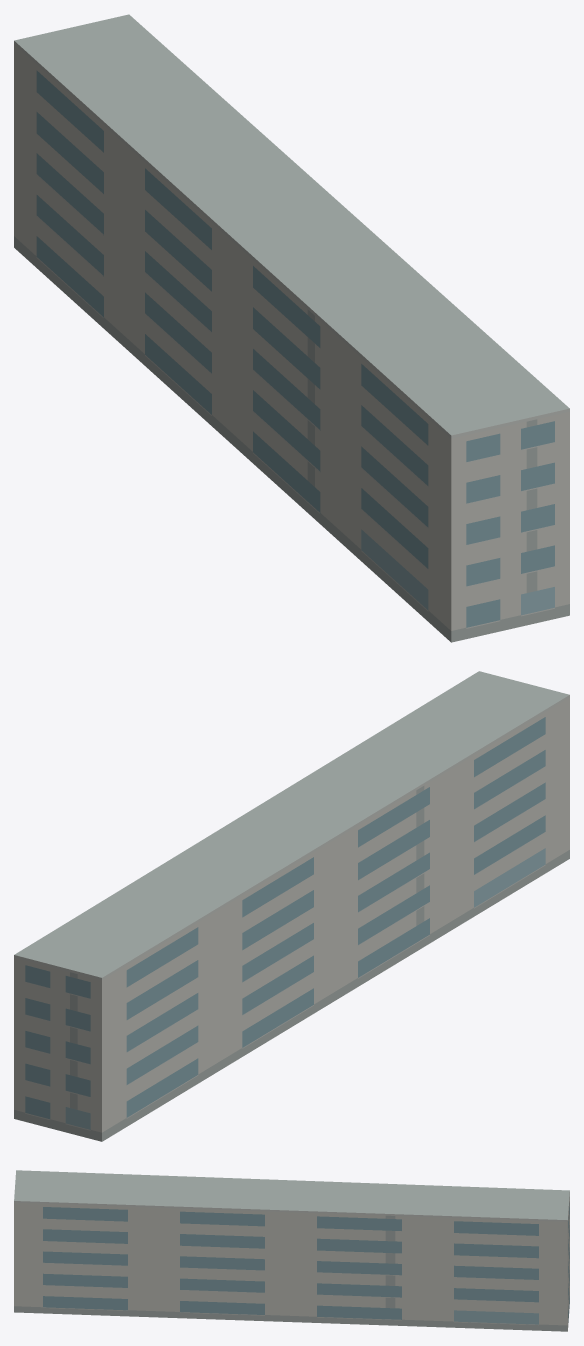
Rendered from survey-upis-32909798.glb.
The picture shows the model from 3 angles, top to bottom: view 1: azimuth 30°, elevation 25°; view 2: azimuth 150°, elevation 25°; view 3: azimuth 270°, elevation 25°; orthographic projection. The views are drawn at different scales.
Parts seen in each view (by area): view 1: survey-upis-32909798.tmp; view 2: survey-upis-32909798.tmp; view 3: survey-upis-32909798.tmp.
Part boxes in pixels (x1=…): survey-upis-32909798.tmp: x1=14, y1=14, x2=569, y2=642; survey-upis-32909798.tmp: x1=14, y1=671, x2=569, y2=1141; survey-upis-32909798.tmp: x1=14, y1=1170, x2=569, y2=1331.
Bounding box in the file's own units: 14.65 × 15.25 × 68.9.
